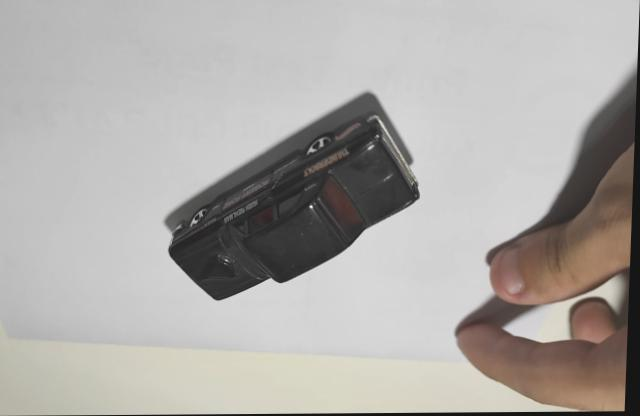01_FORD: (167, 90, 422, 300)
